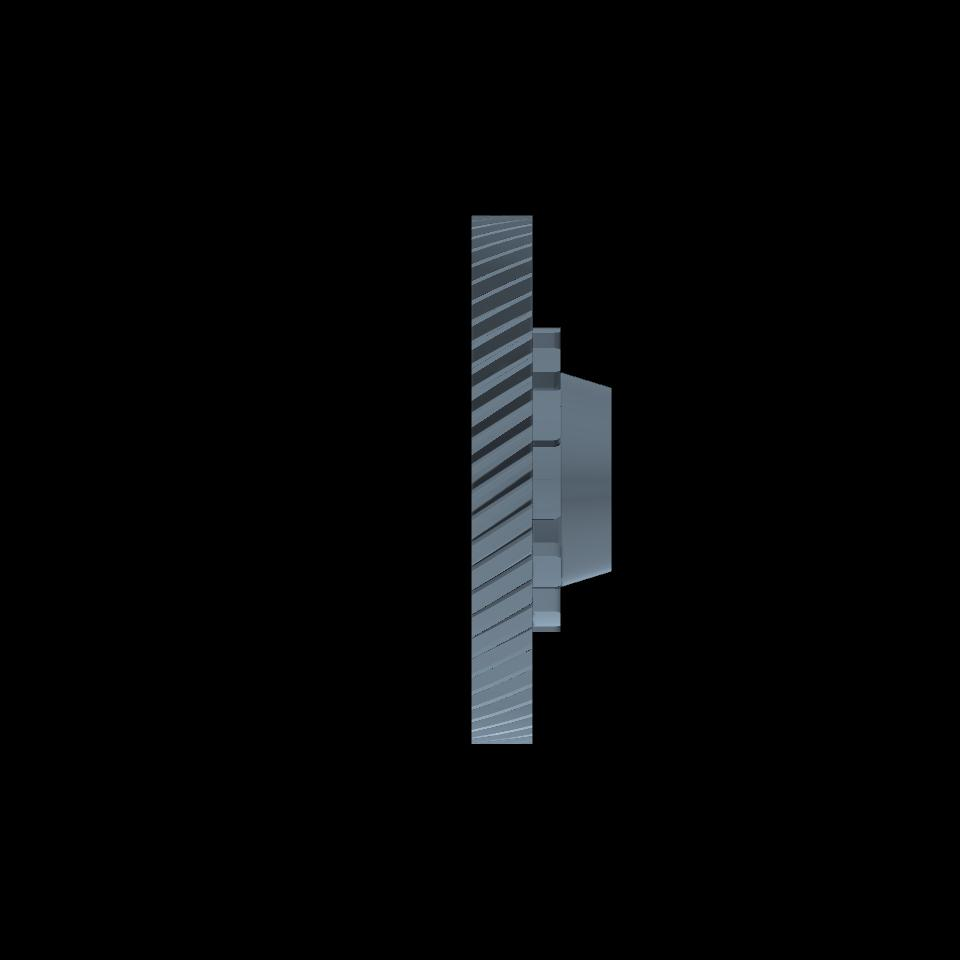Helical: (471, 213, 532, 744)
